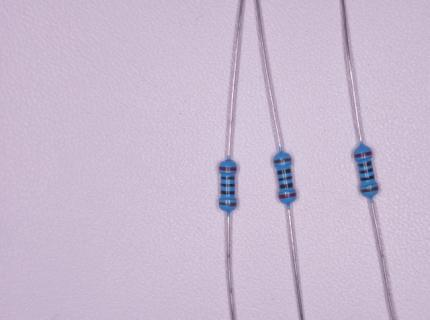Black band: (358, 160, 373, 168), (279, 182, 294, 189), (360, 175, 375, 182), (277, 169, 292, 175), (278, 176, 293, 182), (359, 168, 374, 174), (220, 190, 235, 195), (220, 176, 235, 180), (221, 183, 235, 187)
Brown band: (273, 157, 292, 164), (361, 186, 379, 193), (219, 202, 236, 206)
Red band: (354, 151, 373, 158), (278, 193, 298, 199), (219, 166, 237, 171)
